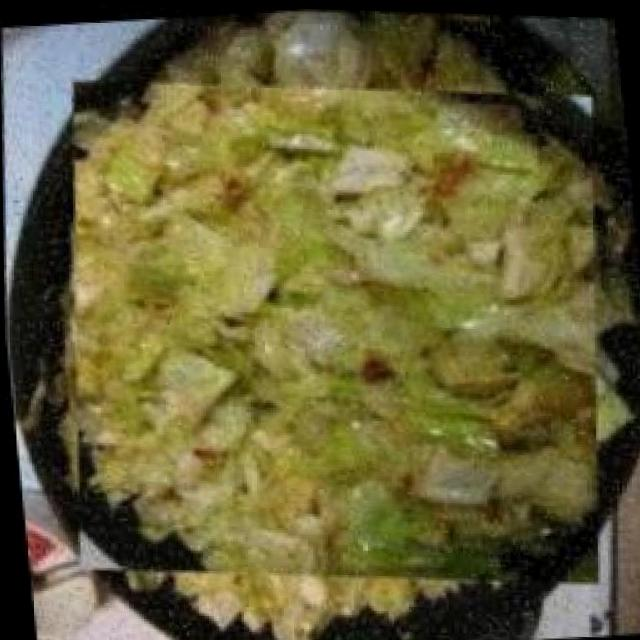chinese_cabbage: (35, 26, 635, 633)
